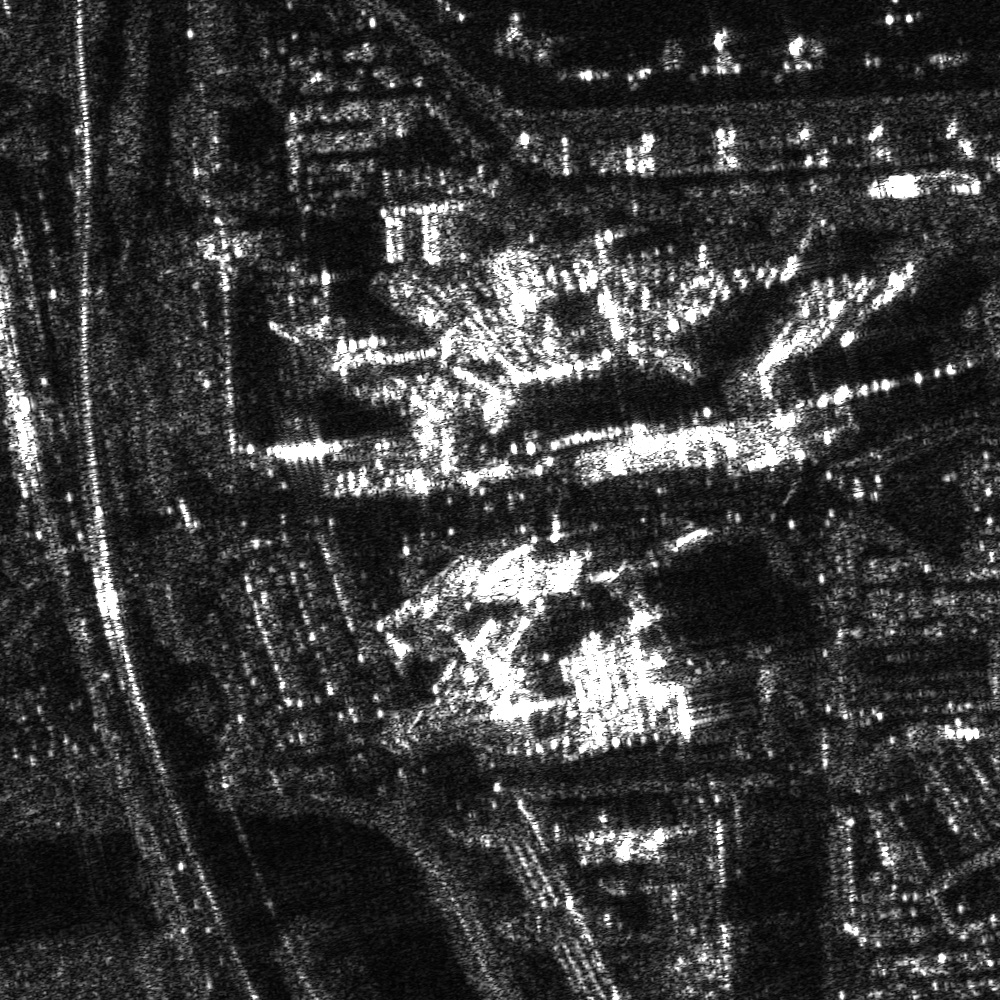Boeing787: (860, 1, 941, 36)
